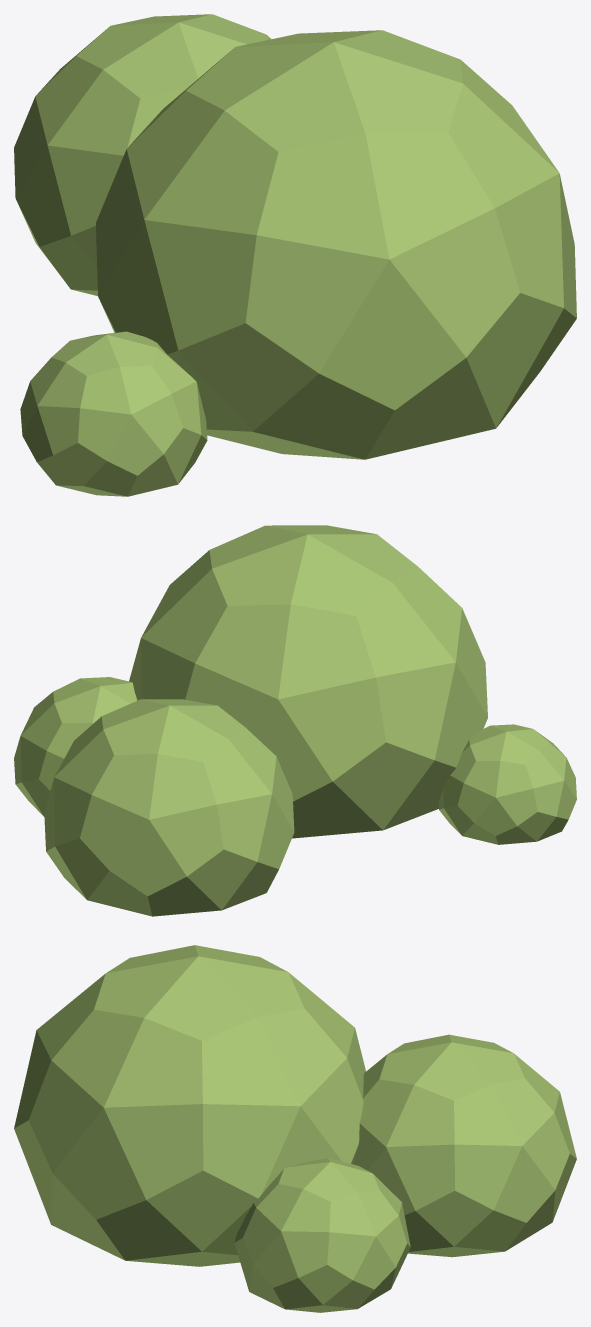
File: Bush.fbx
The picture shows the model from 3 angles, top to bottom: view 1: azimuth 30°, elevation 25°; view 2: azimuth 150°, elevation 25°; view 3: azimuth 270°, elevation 25°; orthographic projection. The views are drawn at different scales.
Visible parts, largest first — view 1: Bush; view 2: Bush; view 3: Bush.
Part boxes in pixels (x1=…): Bush: x1=14, y1=14, x2=576, y2=496; Bush: x1=14, y1=525, x2=576, y2=916; Bush: x1=14, y1=945, x2=576, y2=1312.
Bounding box in the file's own units: 337 × 185 × 358.
